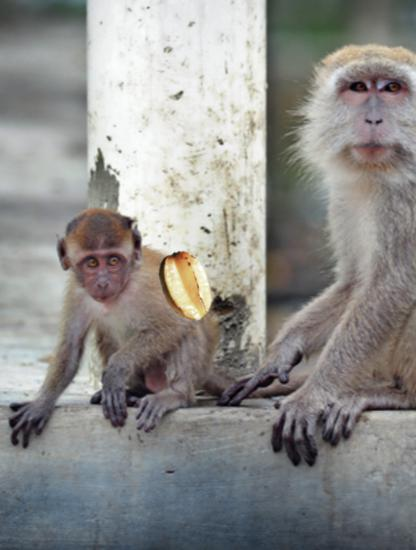Carambula: (149, 250, 222, 323)
